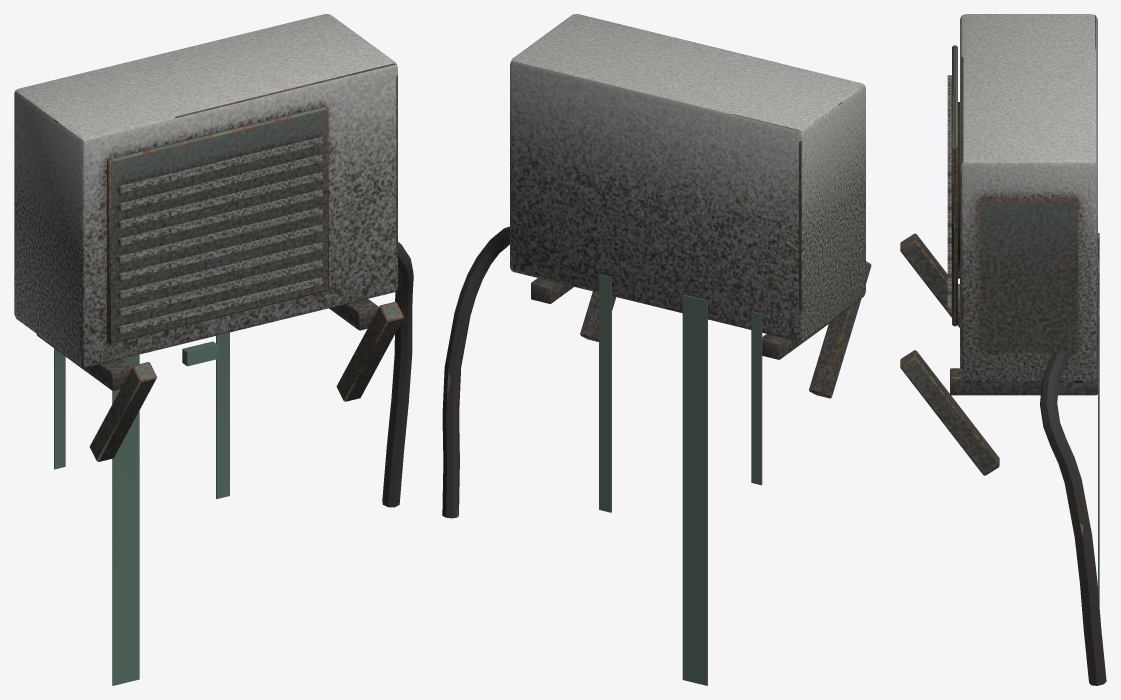
The picture shows the model from 3 angles, left to right: view 1: azimuth 30°, elevation 25°; view 2: azimuth 150°, elevation 25°; view 3: azimuth 270°, elevation 25°; orthographic projection. The views are drawn at different scales.
Parts seen in each view (by area): view 1: body, grille, stain0, pipe, bracket_d, bracket_d.001, stain1, slat, slat.002, slat.003, slat.004, slat.005 (+8 smaller); view 2: body, stain0, pipe, stain1, bracket_d, stain2, bracket, bracket.001, bracket_d.001; view 3: body, side_vent, pipe, bracket_d.001, bracket.001, bracket_d, grille, slat.008, stain1, fan.
Part boxes in pixels (bbox=[...]): body: bbox=[14, 14, 397, 367]; grille: bbox=[107, 106, 328, 343]; stain0: bbox=[112, 354, 139, 685]; pipe: bbox=[382, 242, 413, 507]; bracket_d: bbox=[89, 362, 156, 461]; bracket_d.001: bbox=[336, 302, 403, 401]; stain1: bbox=[216, 332, 229, 498]; slat: bbox=[118, 277, 322, 333]; slat.002: bbox=[118, 242, 322, 298]; slat.003: bbox=[118, 224, 322, 280]; slat.004: bbox=[118, 207, 322, 263]; slat.005: bbox=[118, 189, 322, 245]; body: bbox=[510, 14, 865, 341]; stain0: bbox=[682, 294, 707, 685]; pipe: bbox=[442, 226, 509, 518]; stain1: bbox=[599, 274, 611, 512]; bracket_d: bbox=[809, 261, 871, 398]; stain2: bbox=[751, 311, 762, 485]; bracket: bbox=[762, 307, 849, 359]; bracket.001: bbox=[531, 278, 573, 303]; bracket_d.001: bbox=[580, 291, 616, 341]; body: bbox=[960, 14, 1097, 382]; side_vent: bbox=[979, 198, 1077, 352]; pipe: bbox=[1040, 352, 1106, 685]; bracket_d.001: bbox=[900, 350, 999, 475]; bracket.001: bbox=[950, 368, 1097, 395]; bracket_d: bbox=[900, 233, 959, 327]; grille: bbox=[952, 45, 957, 326]; slat.008: bbox=[947, 75, 951, 176]; stain1: bbox=[1098, 309, 1099, 561]; fan: bbox=[958, 102, 959, 269].
Size of the model in its own units: 0.8894 by 1.35 by 0.4186.
1 material, 1 textured.
